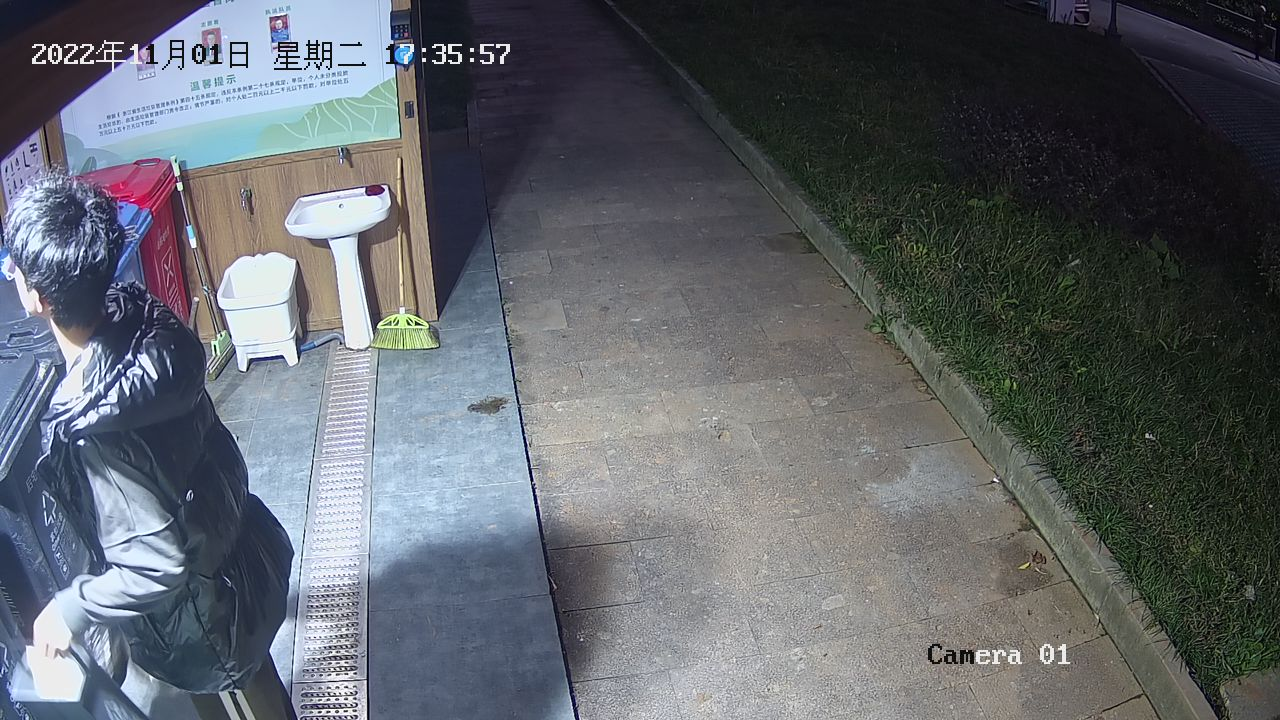person: (3, 161, 300, 720)
